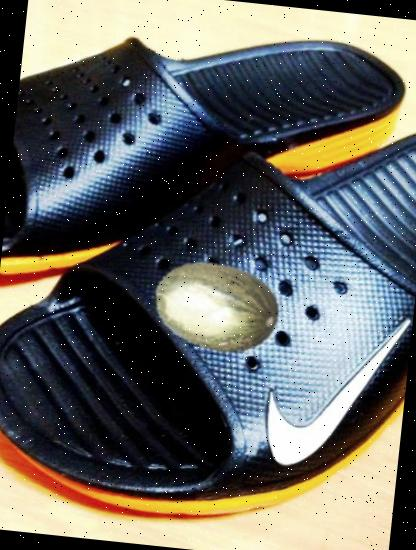Melon: (146, 242, 286, 382)
